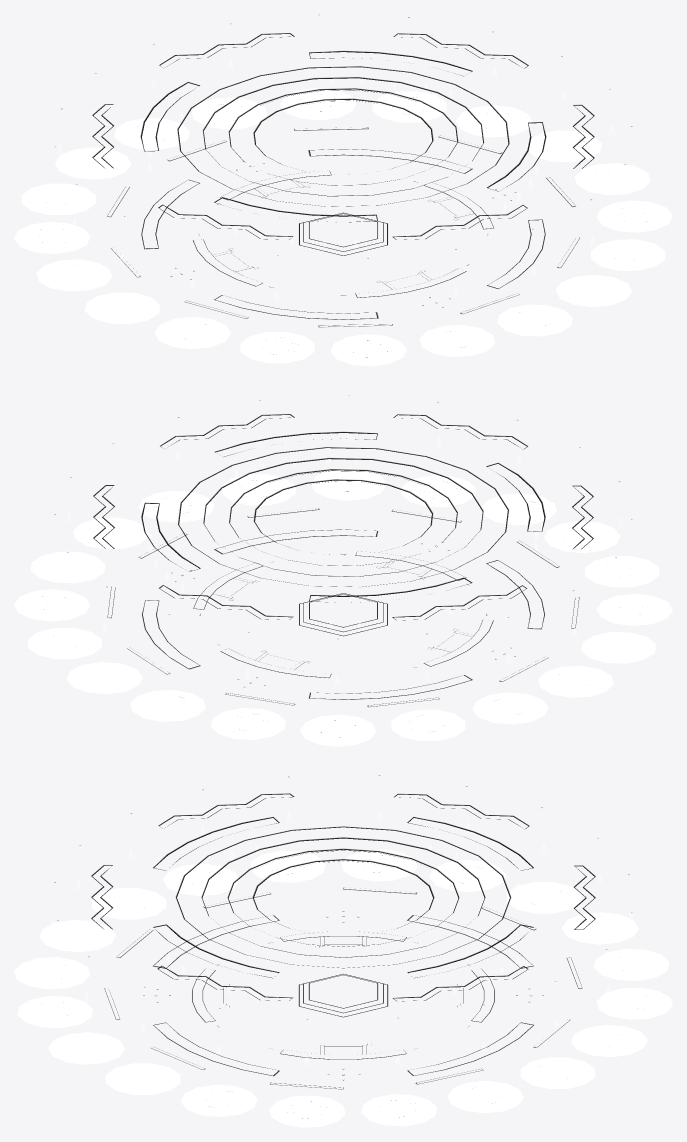
The model's file is SpaceStation_Light.glb.
3 renders of one model, top to bottom at view 1: azimuth 30°, elevation 25°; view 2: azimuth 150°, elevation 25°; view 3: azimuth 270°, elevation 25°, orthographic.
Parts seen in each view (by area): view 1: Fake_light_C_01, Fake_AO_01, Fake_light_A_01; view 2: Fake_light_C_01, Fake_AO_01, Fake_light_A_01; view 3: Fake_light_C_01, Fake_AO_01, Fake_light_A_01, Fake_light_B_01.
Part boxes in pixels (bbox=[...]): Fake_light_C_01: bbox=[14, 88, 672, 366]; Fake_AO_01: bbox=[55, 14, 646, 357]; Fake_light_A_01: bbox=[50, 50, 636, 303]; Fake_light_C_01: bbox=[14, 468, 672, 746]; Fake_AO_01: bbox=[42, 395, 631, 737]; Fake_light_A_01: bbox=[50, 430, 636, 683]; Fake_light_C_01: bbox=[14, 849, 672, 1127]; Fake_AO_01: bbox=[54, 775, 631, 1118]; Fake_light_A_01: bbox=[50, 811, 636, 1064]; Fake_light_B_01: bbox=[167, 845, 519, 1000].
Bounding box in the file's own units: 38.93 × 6.44 × 38.93.
Materials: 4 (4 with a texture image).
